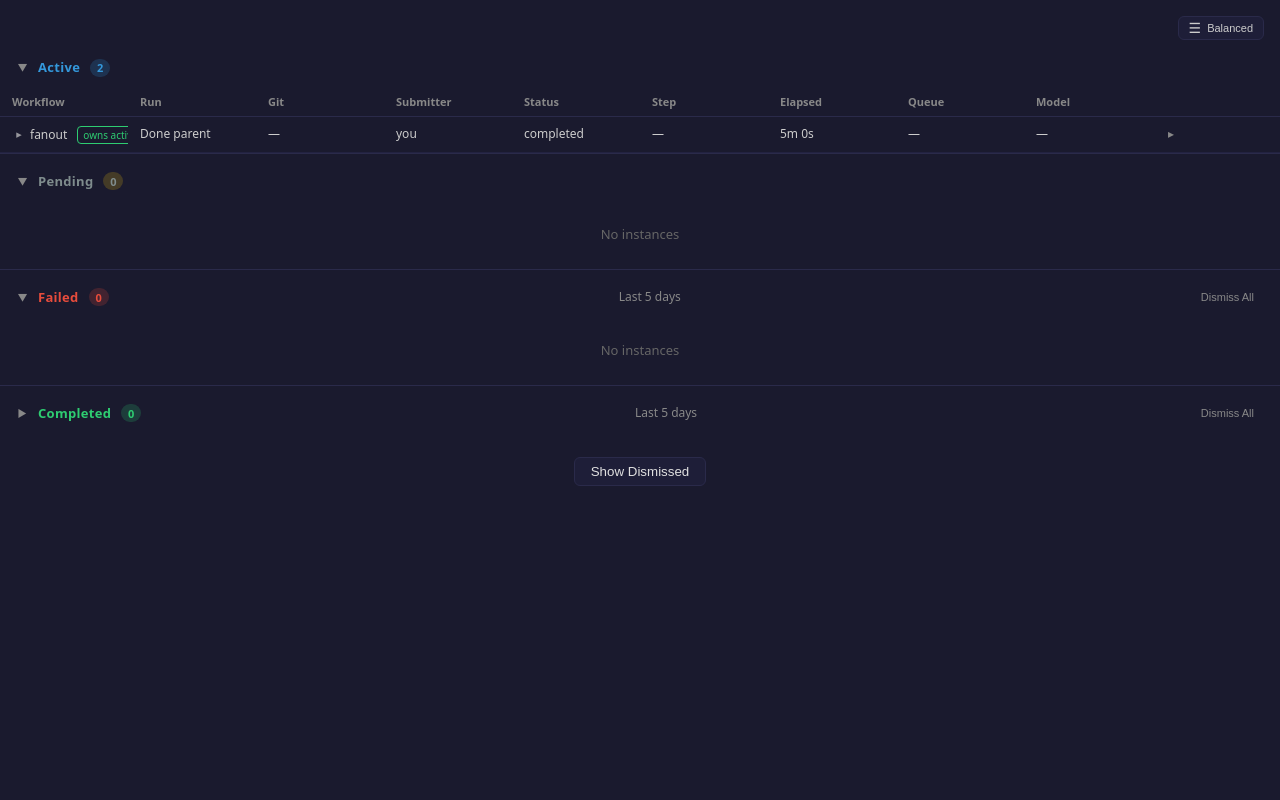
Test case: QueueView — completed ancestors that own active independent work stay discoverable (P4-T10) › a completed parent with an active independent branch is listed, and the branch nests under it (non-root)
Click the button "▸" next to "fanout" at (19, 134), box x1=12 y1=129 x2=26 y2=140
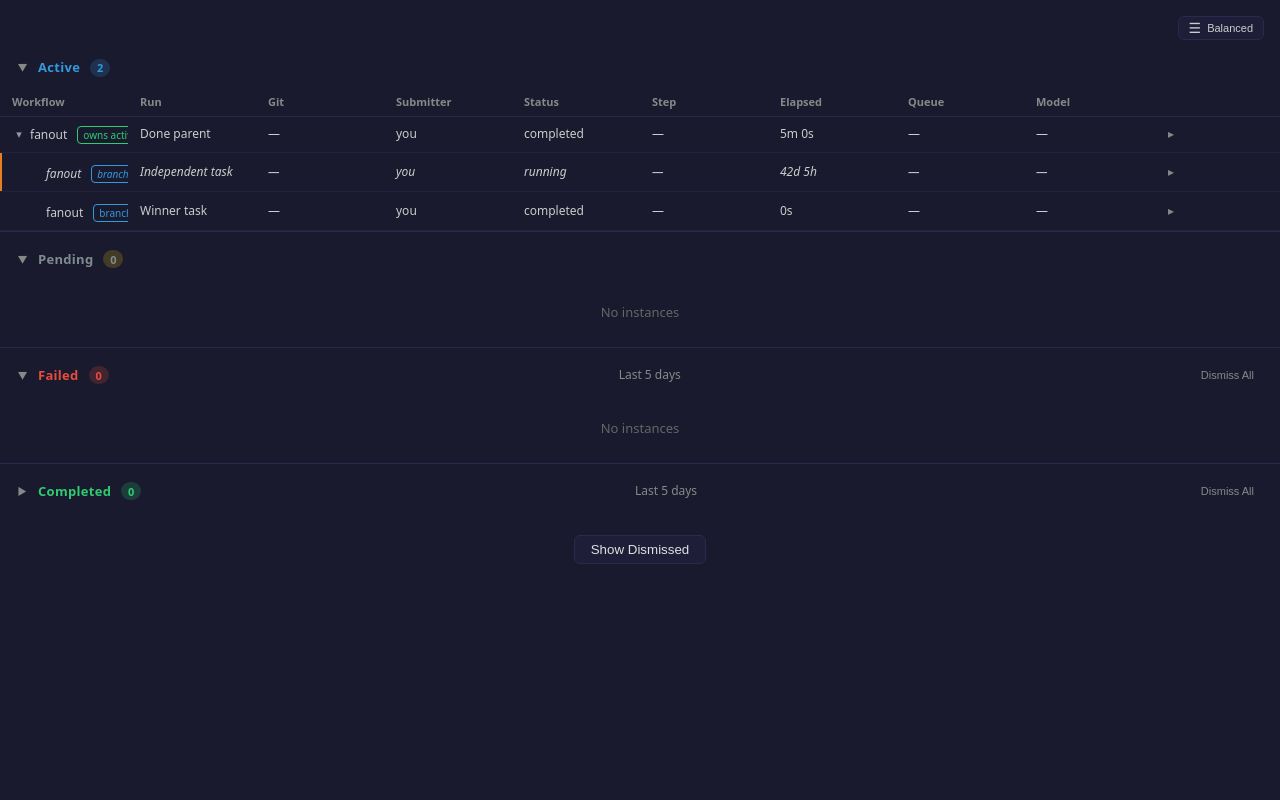
Check: the text "branch" next to "Independent task" is shown, box x1=97 y1=166 x2=128 y2=180
